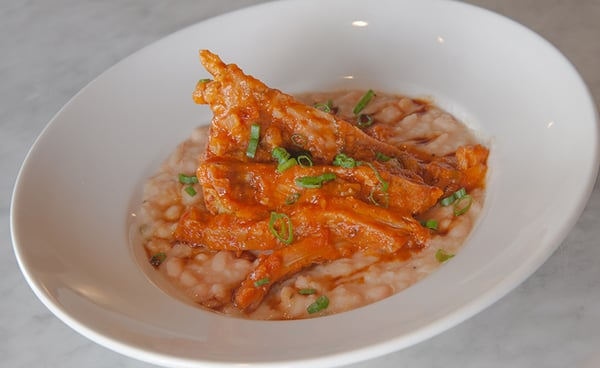curry: (7, 0, 593, 365)
sandwich: (127, 49, 495, 318)
